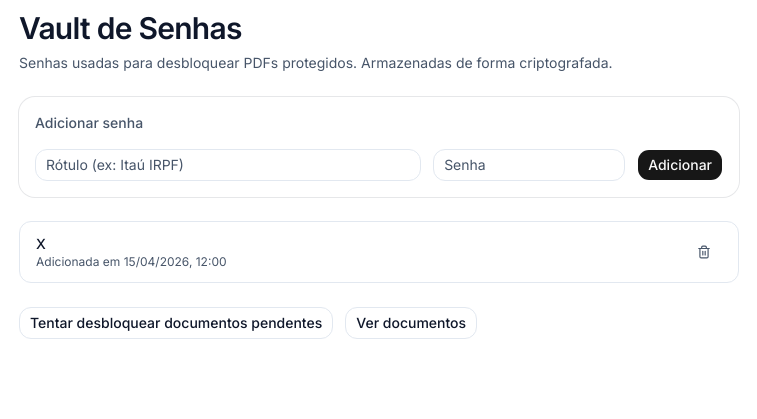
Test: VaultPage › retry-unlock bem-sucedido mostra contador
Expected: the text "X" is shown, x1=36 y1=235 x2=46 y2=252
Click the button "Tentar desbloquear documentos pendentes": (176, 323) x1=19 y1=307 x2=333 y2=339
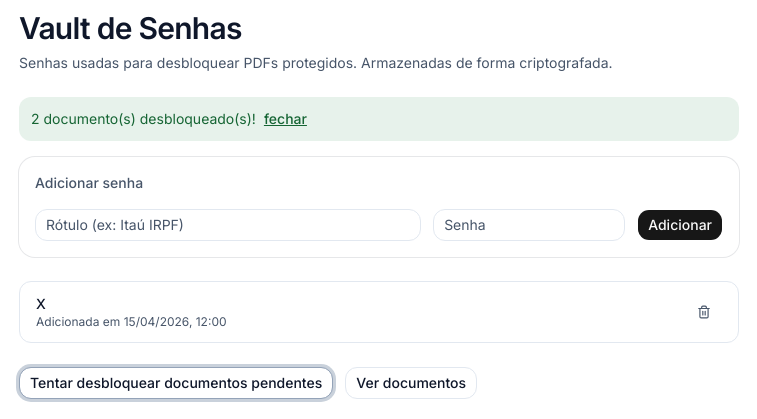
Expected: the text "2 documento(s) desbloqueado(s)! fechar" is shown, x1=19 y1=97 x2=739 y2=141
